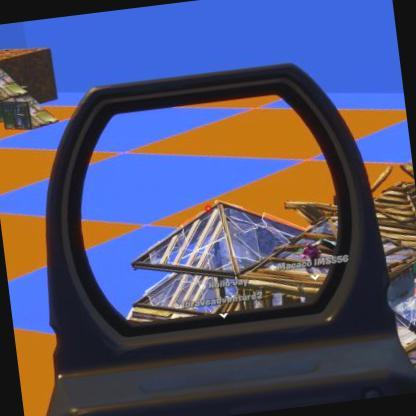person: (298, 238, 328, 278)
